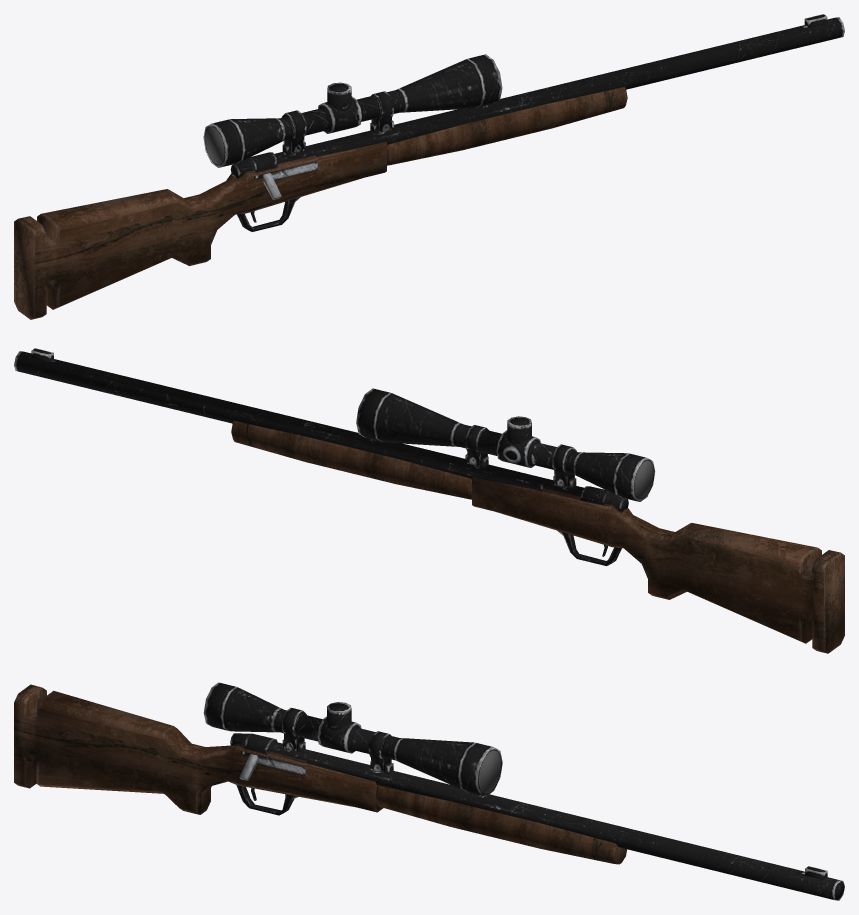
Rendered from SM_GunRifle.FBX.
3 renders of one model, top to bottom at view 1: azimuth 30°, elevation 25°; view 2: azimuth 150°, elevation 25°; view 3: azimuth 330°, elevation 25°, orthographic.
Parts seen in each view (by area): view 1: SM_GunRifle; view 2: SM_GunRifle; view 3: SM_GunRifle.
Part boxes in pixels (x1,y1,x2,y2): SM_GunRifle: (14,14,844,319); SM_GunRifle: (14,348,844,653); SM_GunRifle: (14,682,844,900).
Bounding box in the file's own units: 113 × 19.95 × 7.3.
